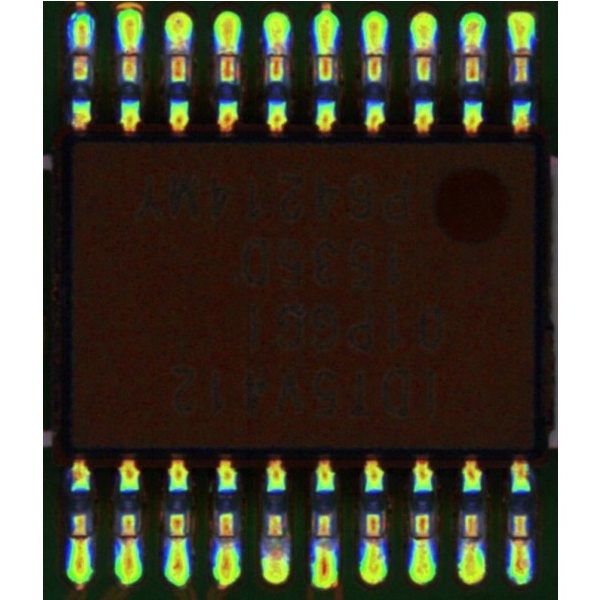Bad_podu: (511, 528, 526, 555), (366, 525, 381, 549), (219, 526, 231, 555), (74, 35, 85, 66), (465, 527, 476, 557), (415, 40, 429, 63), (171, 527, 184, 550), (415, 525, 427, 547), (465, 42, 477, 64), (71, 530, 87, 546), (121, 43, 135, 60), (120, 528, 133, 545), (515, 44, 527, 62), (269, 44, 281, 61)
